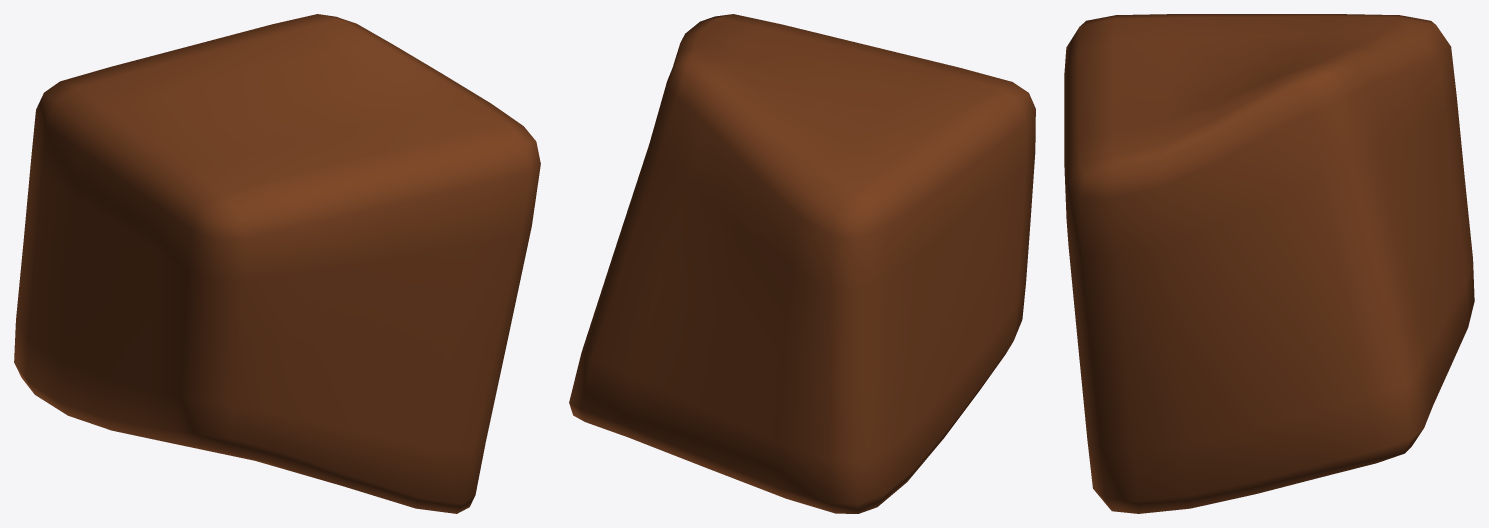
Rendered from volcano_rock.glb.
3 renders of one model, left to right at view 1: azimuth 30°, elevation 25°; view 2: azimuth 150°, elevation 25°; view 3: azimuth 270°, elevation 25°, orthographic.
Parts seen in each view (by area): view 1: Cube; view 2: Cube; view 3: Cube.
Part boxes in pixels (left/top/right/bottom): Cube: left=14, top=14, right=540, bottom=513; Cube: left=569, top=14, right=1035, bottom=513; Cube: left=1064, top=14, right=1474, bottom=513.
Size of the model in its own units: 0.3854 by 0.4519 by 0.3959.
